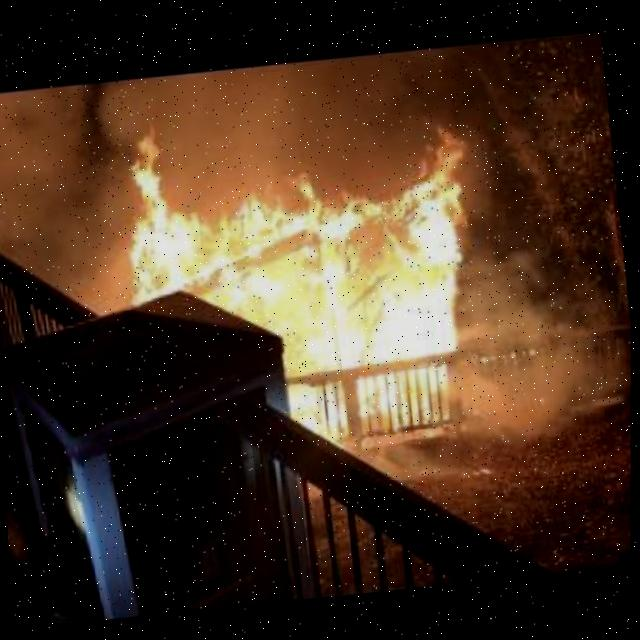fire: (101, 77, 521, 455)
